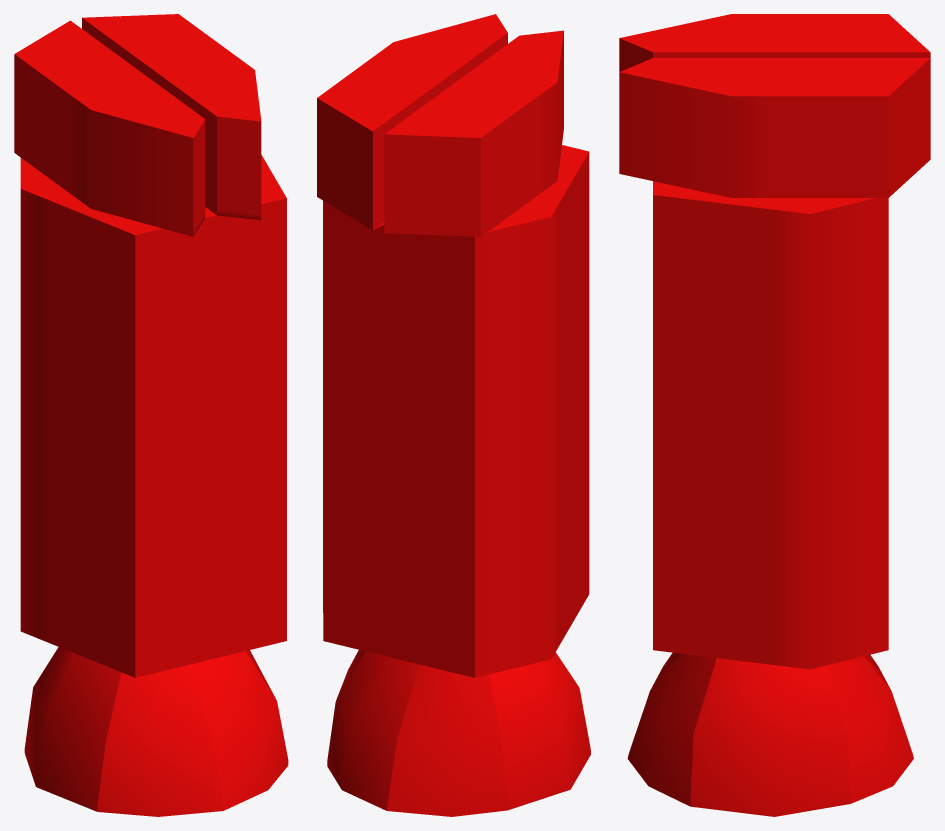
3 views of the same model, side by side, from view 1: azimuth 30°, elevation 25°; view 2: azimuth 150°, elevation 25°; view 3: azimuth 270°, elevation 25° (orthographic). The views are drawn at different scales.
Visible parts, largest first — view 1: SatBody3Transform; view 2: SatBody3Transform; view 3: SatBody3Transform.
Boxes of the visible parts, x1=… form: SatBody3Transform: x1=14, y1=14, x2=288, y2=816; SatBody3Transform: x1=317, y1=14, x2=590, y2=816; SatBody3Transform: x1=619, y1=14, x2=930, y2=816.
Bounding box in the file's own units: 0.0223 × 0.0626 × 0.0251.
